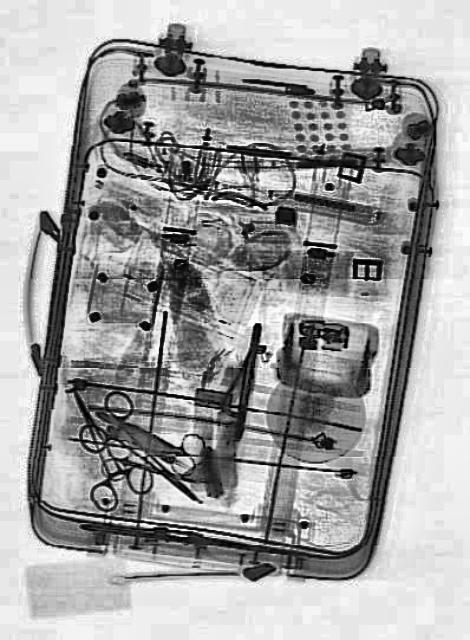Scissors: (74, 378, 219, 534), (46, 366, 156, 524), (92, 387, 210, 487), (99, 433, 168, 492)
